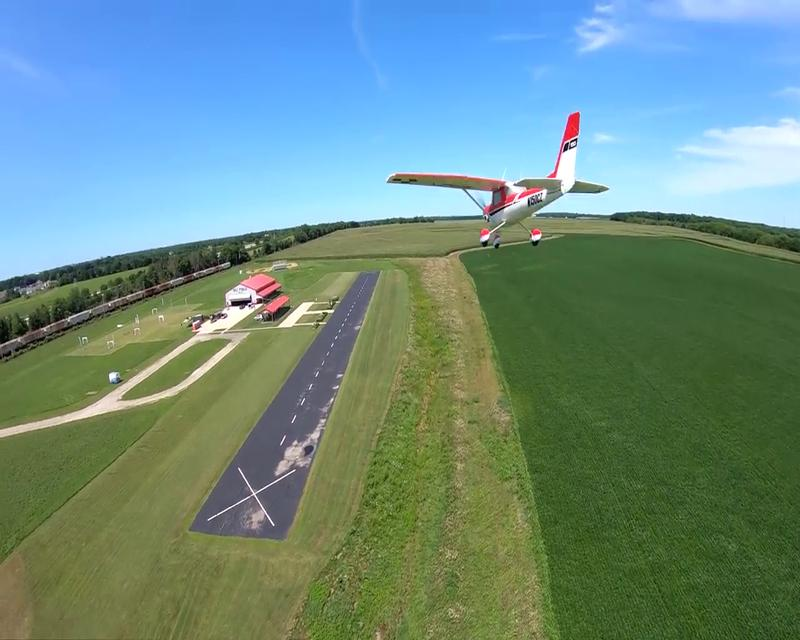UAV: (385, 112, 610, 250)
